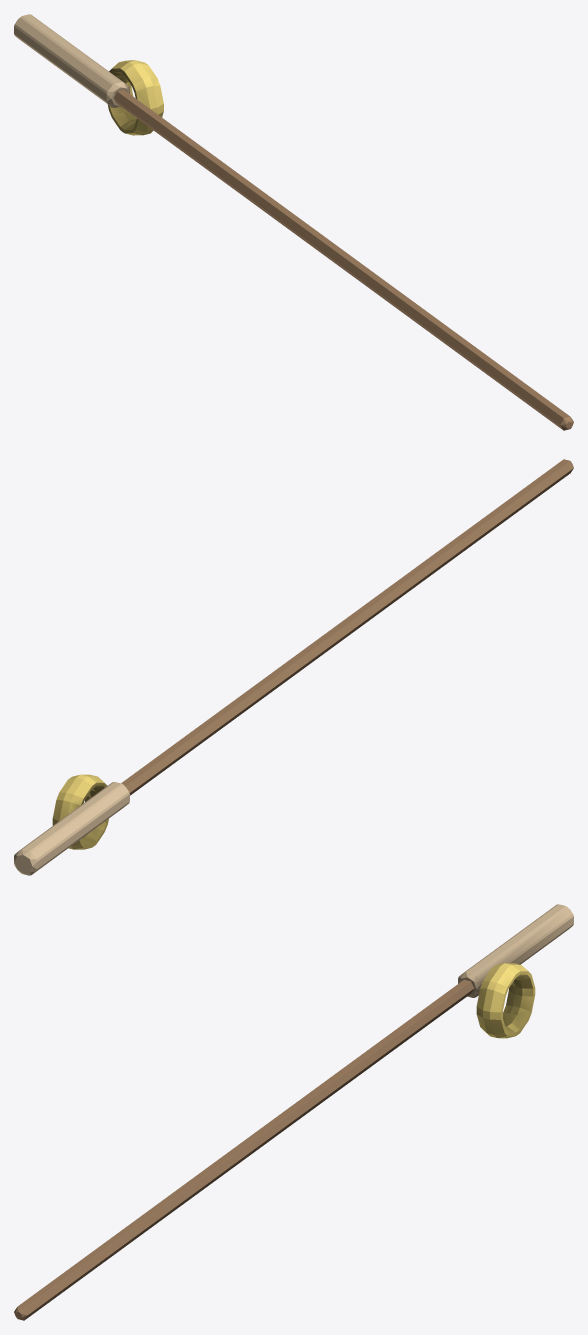
Rendered from FishingRod.fbx.
3 renders of one model, top to bottom at view 1: azimuth 30°, elevation 25°; view 2: azimuth 150°, elevation 25°; view 3: azimuth 330°, elevation 25°, orthographic.
Parts seen in each view (by area): view 1: Body; view 2: Body; view 3: Body.
Part boxes in pixels (x1,y1,x2,y2): Body: [14, 14, 573, 430]; Body: [14, 459, 573, 875]; Body: [14, 904, 573, 1320].
Bounding box in the file's own units: 0.0954 × 0.128 × 1.8.
